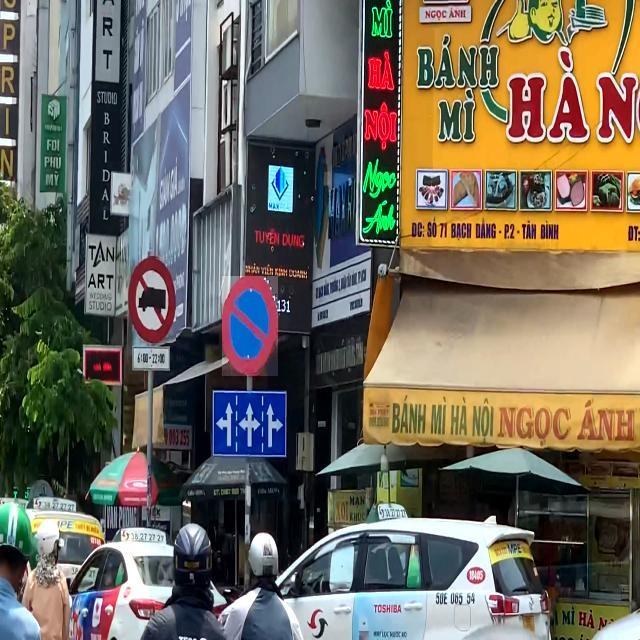P-106a: (128, 256, 176, 343)
P-131a: (222, 276, 278, 376)
